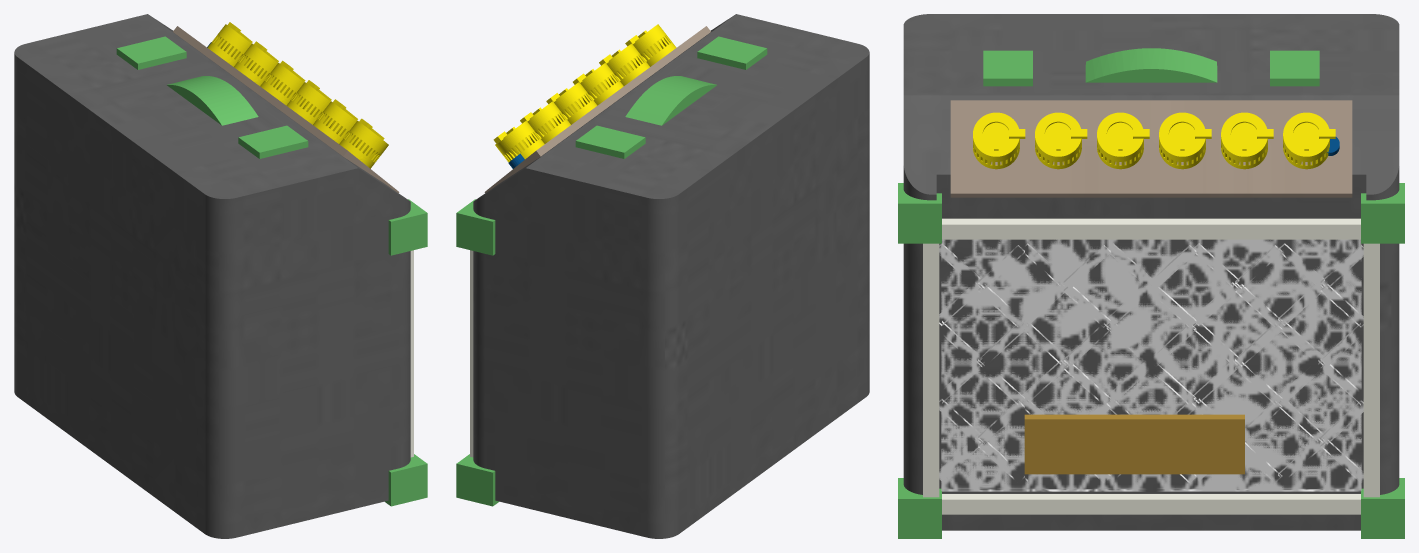
File: Music_Amplifier__0032.glb
3 renders of one model, left to right at view 1: azimuth 30°, elevation 25°; view 2: azimuth 150°, elevation 25°; view 3: azimuth 270°, elevation 25°, orthographic. The views are drawn at different scales.
Visible parts, largest first — view 1: body::cabinet, body::handle, body::gold_panel, body::corner_cap_0_1, body::corner_cap_0_0, knob_0::knob_0, knob_3::knob_3, knob_5::knob_5, knob_1::knob_1, knob_2::knob_2, knob_4::knob_4, body::piping_v_1; view 2: body::cabinet, body::handle, body::gold_panel, body::corner_cap_1_1, body::corner_cap_1_0, knob_5::knob_5, knob_0::knob_0, knob_2::knob_2, knob_1::knob_1, knob_4::knob_4, knob_3::knob_3, body::piping_v_0; view 3: body::cabinet, body::speaker_grille, body::gold_panel, body::marshall_logo, body::piping_h_0, body::piping_h_1, body::handle, body::piping_v_0, body::piping_v_1, knob_0::knob_0, knob_1::knob_1, knob_2::knob_2 (+7 smaller).
Boxes of the visible parts, x1,y1,x2,y2 form: body::cabinet: [14, 14, 410, 538]; body::handle: [116, 36, 308, 158]; body::gold_panel: [173, 26, 399, 192]; body::corner_cap_0_1: [388, 199, 427, 255]; body::corner_cap_0_0: [385, 454, 427, 506]; knob_0::knob_0: [339, 118, 388, 168]; knob_3::knob_3: [260, 60, 305, 105]; knob_5::knob_5: [207, 22, 252, 66]; knob_1::knob_1: [313, 99, 357, 143]; knob_2::knob_2: [286, 80, 331, 124]; knob_4::knob_4: [234, 41, 278, 85]; body::piping_v_1: [410, 250, 413, 457]; body::cabinet: [473, 14, 869, 538]; body::handle: [575, 36, 767, 158]; body::gold_panel: [484, 26, 710, 192]; body::corner_cap_1_1: [456, 199, 495, 255]; body::corner_cap_1_0: [456, 454, 498, 506]; knob_5::knob_5: [493, 120, 544, 162]; knob_0::knob_0: [625, 24, 676, 66]; knob_2::knob_2: [573, 63, 623, 105]; knob_1::knob_1: [599, 43, 649, 85]; knob_4::knob_4: [520, 101, 570, 143]; knob_3::knob_3: [546, 82, 597, 124]; body::piping_v_0: [470, 250, 473, 457]; body::cabinet: [903, 14, 1399, 530]; body::speaker_grille: [939, 239, 1363, 491]; body::gold_panel: [950, 100, 1352, 197]; body::marshall_logo: [1024, 414, 1244, 474]; body::piping_h_0: [942, 218, 1360, 239]; body::piping_h_1: [942, 494, 1360, 514]; body::handle: [983, 48, 1319, 86]; body::piping_v_0: [1363, 243, 1379, 497]; body::piping_v_1: [923, 243, 939, 497]; knob_0::knob_0: [973, 112, 1025, 169]; knob_1::knob_1: [1035, 112, 1087, 169]; knob_2::knob_2: [1097, 112, 1149, 169].
Bounding box in the file's own units: 0.0884 × 0.144 × 0.158.
8 materials, 3 textured.
